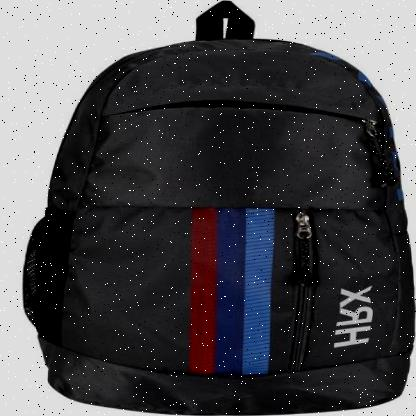bag: (18, 12, 416, 416)
